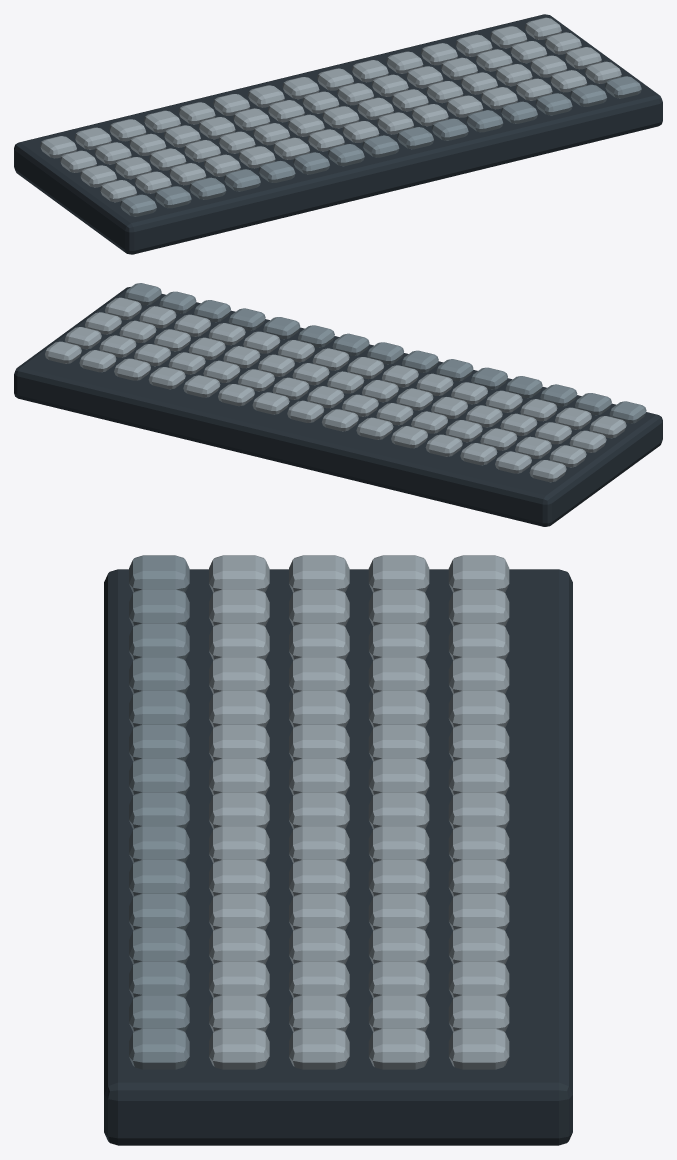
Rendered from SM_Lab_Console__Keyboard.fbx.
3 renders of one model, top to bottom at view 1: azimuth 30°, elevation 25°; view 2: azimuth 150°, elevation 25°; view 3: azimuth 270°, elevation 25°, orthographic. The views are drawn at different scales.
Visible parts, largest first — view 1: SM_Lab_Console__Keyboard; view 2: SM_Lab_Console__Keyboard; view 3: SM_Lab_Console__Keyboard.
Part boxes in pixels (box(x1,y1,x2,y2)): SM_Lab_Console__Keyboard: box(14, 14, 662, 254); SM_Lab_Console__Keyboard: box(14, 283, 662, 526); SM_Lab_Console__Keyboard: box(104, 555, 572, 1145).
Size of the model in its own units: 45 by 17 by 3.45.
